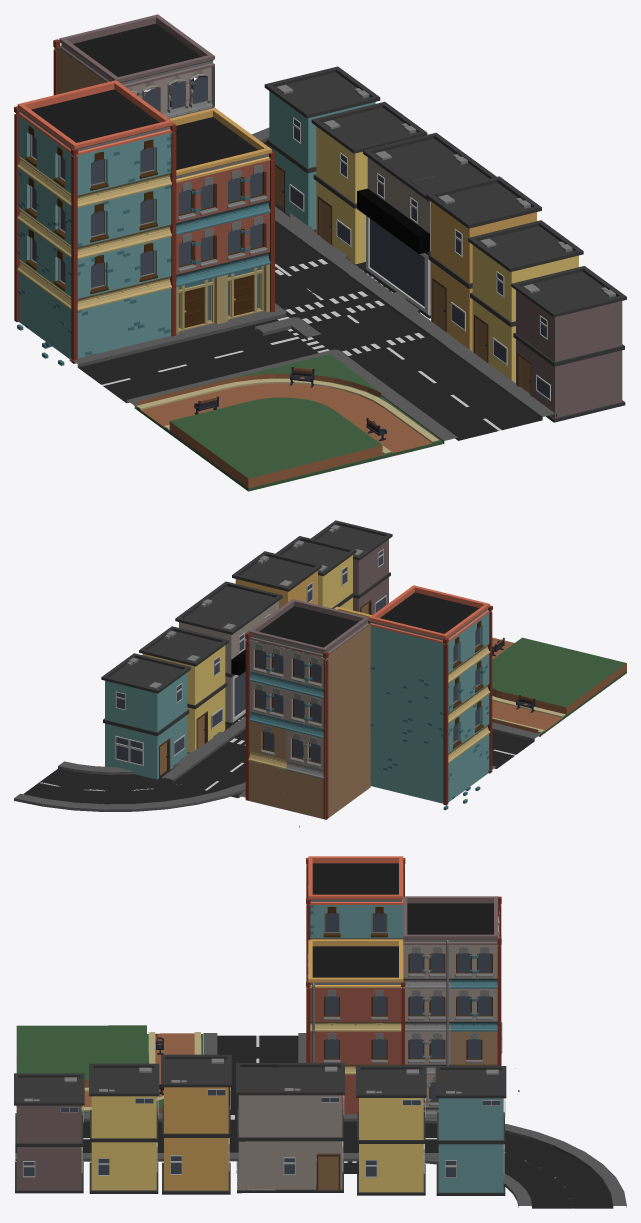
Rendered from SmallTown.gltf.
The picture shows the model from 3 angles, top to bottom: view 1: azimuth 30°, elevation 25°; view 2: azimuth 150°, elevation 25°; view 3: azimuth 270°, elevation 25°; orthographic projection. The views are drawn at different scales.
Visible parts, largest first — view 1: building, park road, Cube.005, Cube.002, straight road, straight road.001, T juntion, Cube.003, Cube.004, Cube.001, Cube, Intersection (+1 smaller); view 2: building, Cube, park road, Curved road, Cube.002, Cube.001, Cube.005, straight road.002, Cube.003, Cube.004, straight road.001; view 3: building, Cube.002, Cube.003, Cube.004, Cube, Cube.001, Cube.005, park road, Curved road, straight road.001, straight road.002, straight road (+1 smaller).
Boxes of the visible parts, x1=… form: building: x1=14, y1=14, x2=275, y2=365; park road: x1=136, y1=354, x2=442, y2=491; Cube.005: x1=511, y1=266, x2=626, y2=422; Cube.002: x1=357, y1=132, x2=496, y2=318; straight road: x1=350, y1=342, x2=556, y2=443; straight road.001: x1=69, y1=317, x2=298, y2=408; T juntion: x1=238, y1=271, x2=459, y2=368; Cube.003: x1=426, y1=176, x2=541, y2=351; Cube.004: x1=468, y1=220, x2=583, y2=383; Cube.001: x1=311, y1=101, x2=427, y2=264; Cube: x1=264, y1=66, x2=380, y2=232; Intersection: x1=255, y1=238, x2=420, y2=340; building: x1=245, y1=585, x2=492, y2=827; Cube: x1=101, y1=653, x2=190, y2=779; park road: x1=492, y1=637, x2=626, y2=735; Curved road: x1=14, y1=746, x2=245, y2=811; Cube.002: x1=175, y1=581, x2=282, y2=724; Cube.001: x1=139, y1=626, x2=228, y2=753; Cube.005: x1=311, y1=520, x2=392, y2=614; straight road.002: x1=162, y1=722, x2=249, y2=800; Cube.003: x1=232, y1=551, x2=321, y2=652; Cube.004: x1=275, y1=536, x2=356, y2=610; straight road.001: x1=488, y1=722, x2=540, y2=773; building: x1=306, y1=856, x2=519, y2=1114; Cube.002: x1=236, y1=1063, x2=344, y2=1193; Cube.003: x1=161, y1=1054, x2=231, y2=1194; Cube.004: x1=89, y1=1063, x2=159, y2=1193; Cube: x1=435, y1=1066, x2=506, y2=1195; Cube.001: x1=356, y1=1065, x2=426, y2=1195; Cube.005: x1=14, y1=1073, x2=84, y2=1193; park road: x1=16, y1=1025, x2=203, y2=1112; Curved road: x1=425, y1=1119, x2=626, y2=1208; straight road.001: x1=203, y1=1033, x2=306, y2=1104; straight road.002: x1=343, y1=1114, x2=438, y2=1161; straight road: x1=15, y1=1113, x2=163, y2=1161.
Size of the model in its own units: 50.33 by 26.46 by 75.45.
